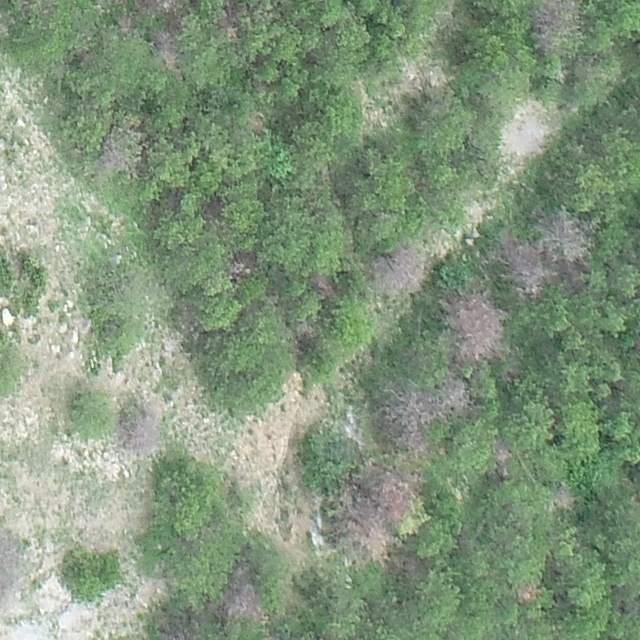unhealthy: (444, 291, 507, 361), (381, 387, 434, 453), (544, 206, 599, 264), (371, 241, 429, 295), (344, 500, 391, 560), (497, 246, 549, 299), (528, 0, 579, 48), (376, 456, 424, 505), (222, 577, 262, 623), (119, 415, 163, 453), (437, 374, 473, 413), (148, 28, 179, 73), (0, 537, 24, 590), (98, 139, 129, 173), (229, 253, 255, 278), (515, 580, 540, 604), (310, 273, 334, 298), (492, 439, 512, 465), (552, 488, 575, 510), (246, 111, 266, 135)
